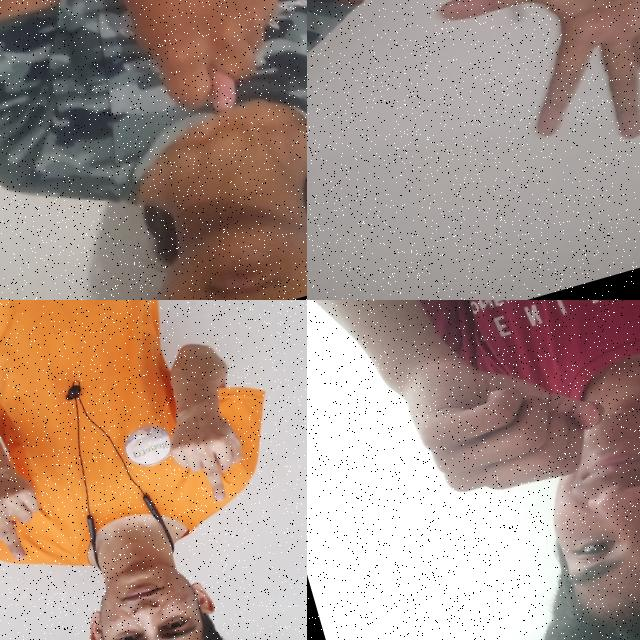Dulya: (87, 0, 307, 140)
Fist Mouth: (368, 300, 640, 640)
Middle Finger: (153, 392, 261, 517), (0, 448, 59, 574)
Moutza: (417, 0, 640, 192)
